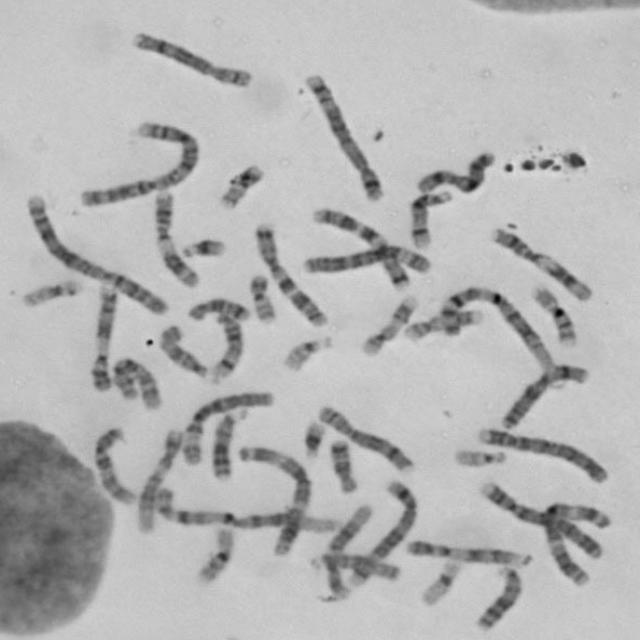A1: (435, 282, 556, 371), (151, 486, 337, 535)
A2: (20, 190, 172, 316), (73, 117, 203, 210)
A3: (235, 441, 313, 554), (540, 500, 611, 587)
B4: (476, 476, 606, 562), (474, 423, 610, 485)
B5: (302, 70, 386, 203), (346, 477, 422, 588)
C10: (88, 424, 138, 506), (109, 353, 164, 412)
C11: (486, 223, 595, 304), (150, 186, 201, 290)
C12: (133, 424, 184, 533), (322, 504, 375, 600)
C6: (176, 386, 276, 467), (298, 242, 437, 277)
C7: (308, 203, 413, 292), (250, 218, 330, 328)
C8: (127, 27, 254, 89), (313, 402, 415, 473)
C9: (402, 536, 533, 568), (86, 280, 120, 393)
D13: (474, 563, 528, 632), (208, 404, 248, 480)
D14: (405, 187, 456, 250), (207, 310, 246, 385)
D15: (155, 322, 210, 379), (308, 550, 402, 582)
E16: (528, 281, 579, 347), (193, 525, 238, 586)
E17: (357, 292, 420, 358), (399, 305, 485, 343)
E18: (184, 294, 251, 324), (329, 437, 362, 495)
F19: (417, 557, 465, 609), (18, 275, 85, 309)
F20: (215, 161, 268, 210), (246, 272, 279, 326)
G21: (178, 235, 228, 260), (298, 418, 326, 459)
G22: (279, 332, 336, 373), (448, 444, 509, 468)
X: (496, 360, 592, 432), (412, 148, 498, 196)
